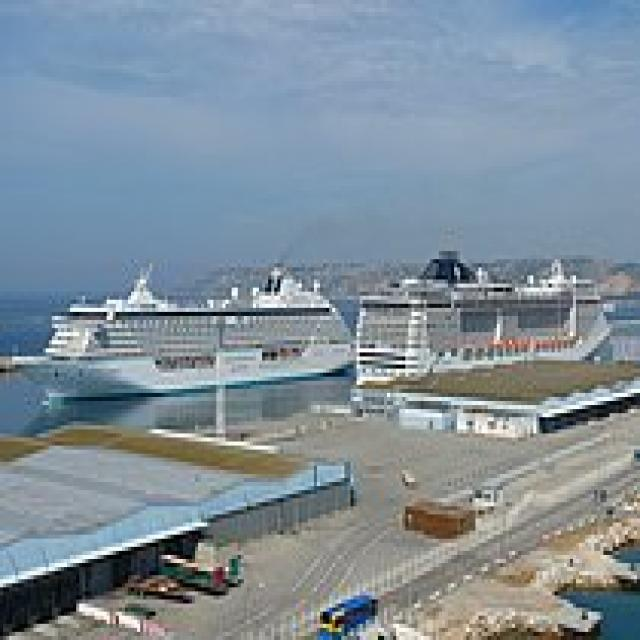Ship: (22, 248, 364, 398), (351, 256, 629, 402)
